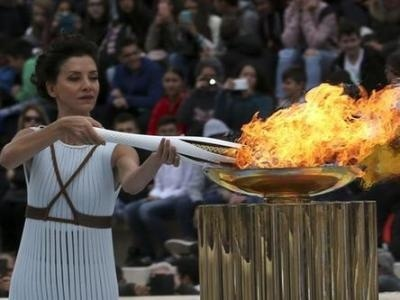fire: (233, 76, 399, 170)
